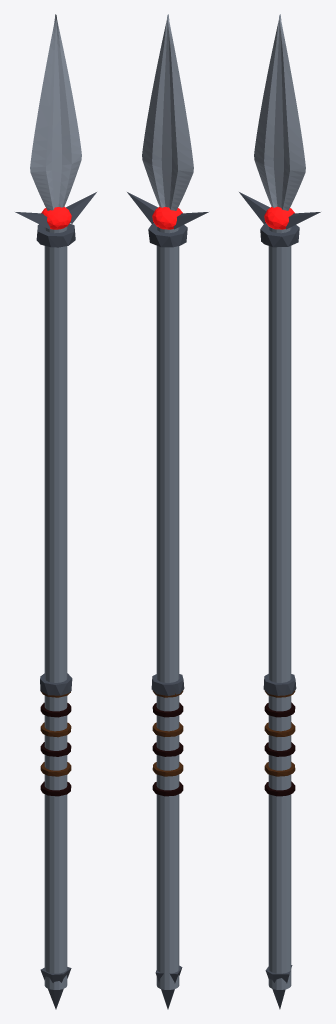
The model's file is spear_1.glb.
The picture shows the model from 3 angles, left to right: view 1: azimuth 30°, elevation 25°; view 2: azimuth 150°, elevation 25°; view 3: azimuth 330°, elevation 25°; orthographic projection.
Visible parts, largest first — view 1: part_01, part_11, part_09, part_14, part_10, part_08, part_13, part_12, part_03, part_06, part_02, part_04 (+1 smaller); view 2: part_01, part_11, part_09, part_14, part_10, part_13, part_08, part_12, part_02, part_03, part_06, part_04 (+1 smaller); view 3: part_01, part_11, part_09, part_14, part_10, part_08, part_12, part_13, part_02, part_03, part_04, part_06 (+1 smaller).
Boxes of the visible parts, x1,y1,x2,y2 form: part_01: (44, 226, 67, 989); part_11: (30, 14, 81, 210); part_09: (36, 223, 75, 247); part_14: (41, 207, 71, 229); part_10: (40, 673, 72, 695); part_08: (40, 967, 71, 1009); part_13: (66, 192, 96, 223); part_12: (15, 212, 50, 229); part_03: (40, 762, 71, 776); part_06: (40, 702, 71, 717); part_02: (40, 781, 71, 796); part_04: (40, 742, 71, 756); part_01: (156, 226, 179, 989); part_11: (142, 14, 193, 210); part_09: (148, 223, 187, 247); part_14: (152, 207, 182, 229); part_10: (151, 674, 184, 695); part_13: (127, 192, 157, 223); part_08: (155, 965, 182, 1009); part_12: (173, 212, 208, 229); part_02: (152, 781, 183, 796); part_03: (152, 762, 183, 776); part_06: (152, 702, 183, 717); part_04: (152, 742, 183, 756); part_01: (268, 226, 291, 989); part_11: (254, 14, 305, 210); part_09: (260, 223, 299, 247); part_14: (264, 206, 294, 229); part_10: (263, 674, 296, 695); part_08: (265, 965, 292, 1009); part_12: (239, 192, 269, 223); part_13: (285, 212, 320, 229); part_02: (264, 781, 295, 796); part_03: (264, 762, 295, 776); part_04: (264, 742, 295, 756); part_06: (264, 702, 295, 717).
Bounding box in the file's own units: 0.1587 × 1.82 × 0.0648.
